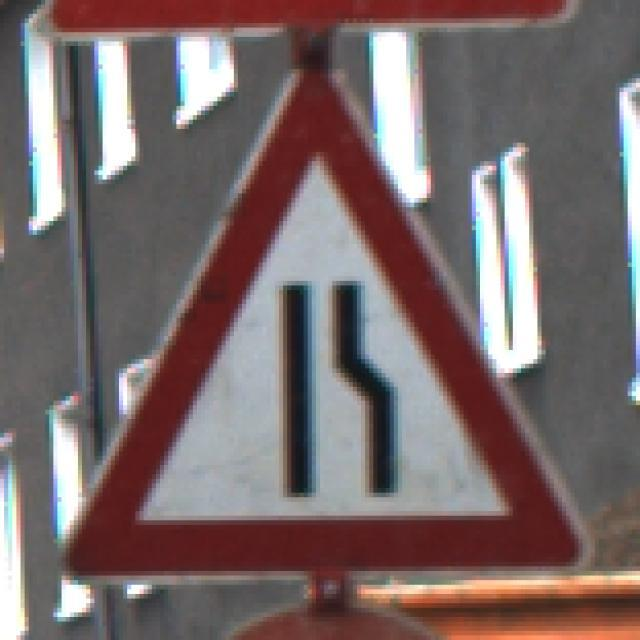narrow road ahead: (54, 58, 591, 585)
